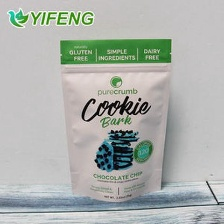snack: (52, 31, 179, 207)
